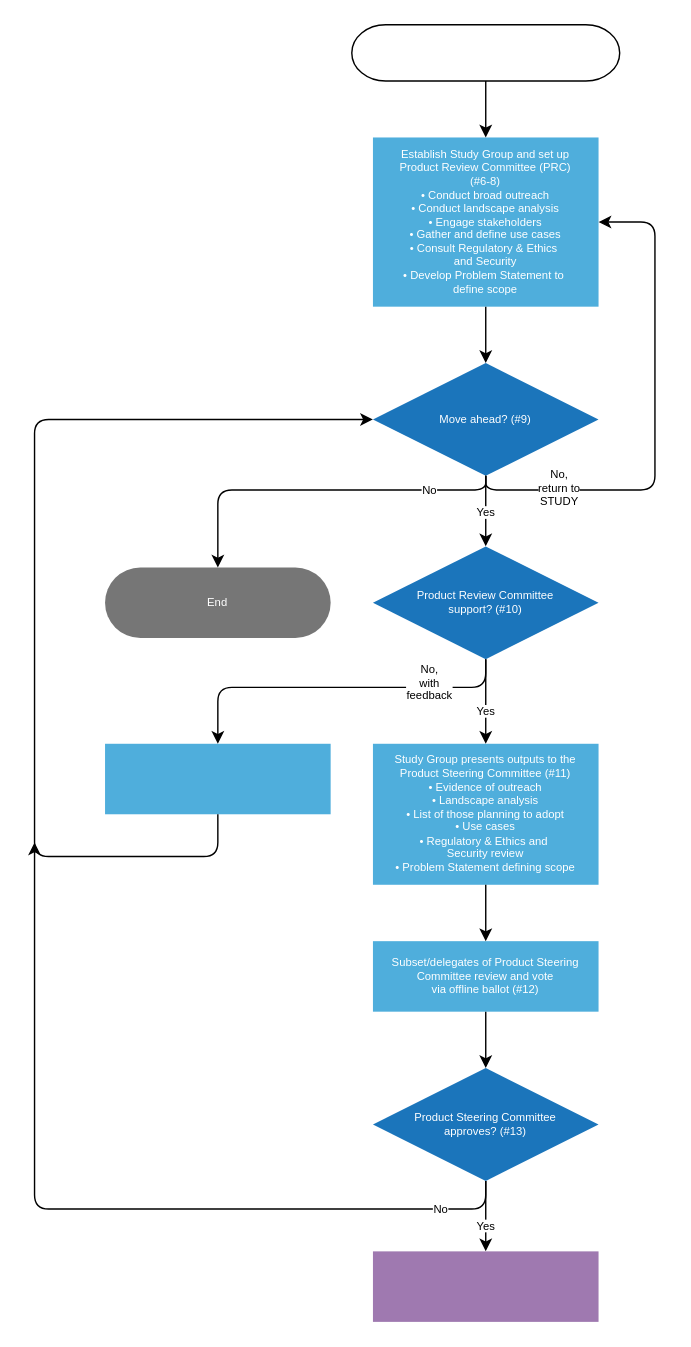
Image size: 691x1347. Some labels were removed from this diagram. Each missing label, with the box of its shape:
Proceed to DEVELOPMENT: (372, 1251, 598, 1321)
Start here: (350, 23, 620, 81)
Study Group reviews feedback (#9): (104, 743, 330, 814)
